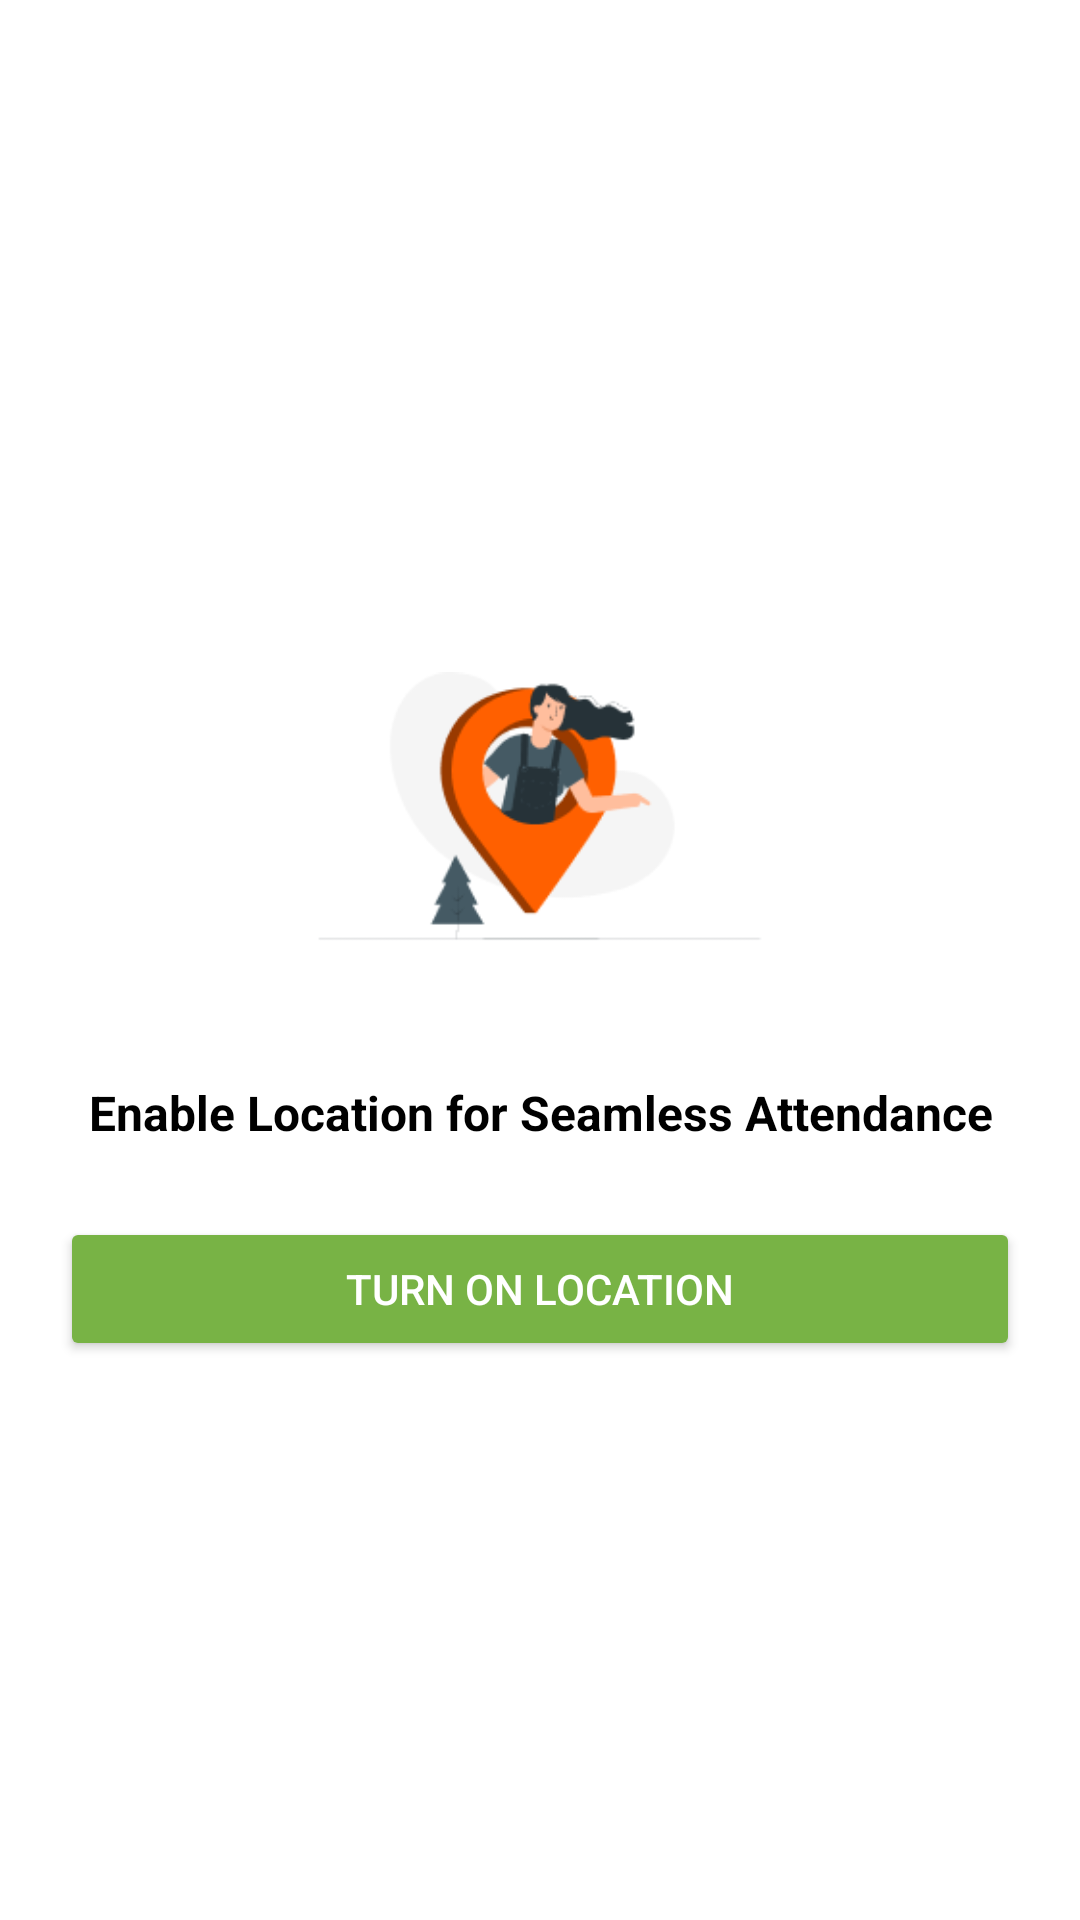

Point at icon controls on the screen. Image size 1080px×1920px, points as (x,y).
Illustration: (540,811)
